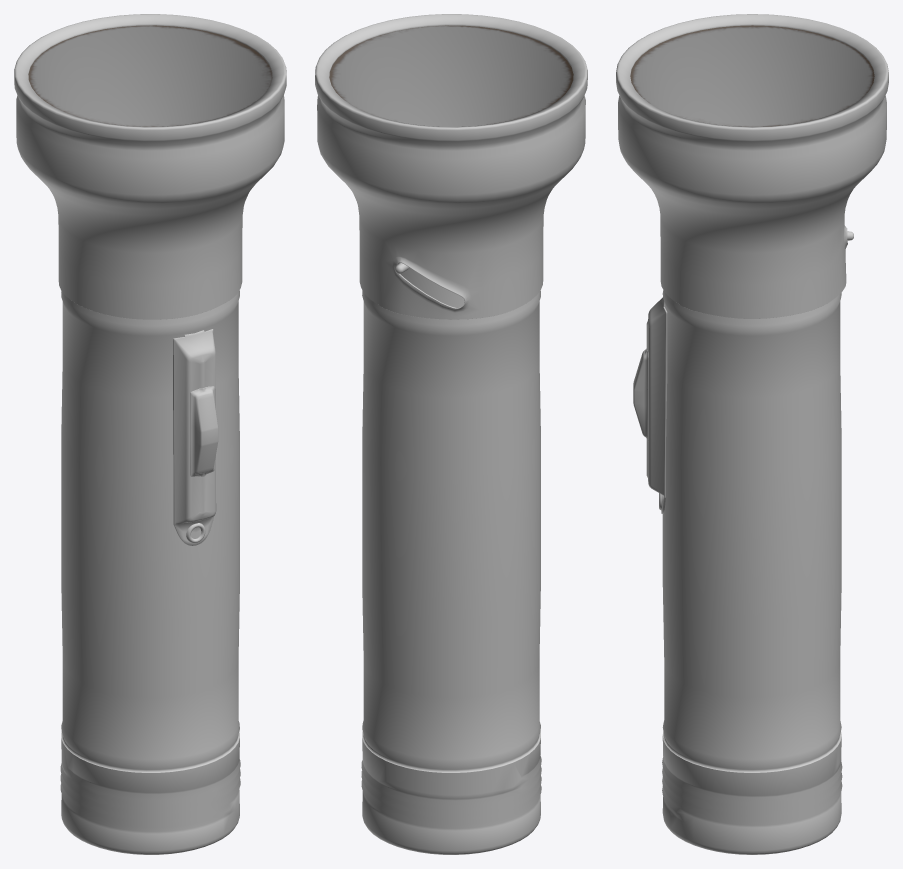
3 renders of one model, left to right at view 1: azimuth 30°, elevation 25°; view 2: azimuth 150°, elevation 25°; view 3: azimuth 270°, elevation 25°, orthographic.
Visible parts, largest first — view 1: Object1456_02 - Default_0, Object1459_02 - Default55_0; view 2: Object1456_02 - Default_0, Object1459_02 - Default55_0; view 3: Object1456_02 - Default_0, Object1459_02 - Default55_0.
Boxes of the visible parts, bbox=[...] form: Object1456_02 - Default_0: bbox=[14, 14, 286, 854]; Object1459_02 - Default55_0: bbox=[28, 25, 272, 126]; Object1456_02 - Default_0: bbox=[315, 14, 587, 854]; Object1459_02 - Default55_0: bbox=[329, 25, 573, 126]; Object1456_02 - Default_0: bbox=[616, 14, 888, 854]; Object1459_02 - Default55_0: bbox=[630, 25, 874, 126].
Size of the model in its own units: 0.1722 by 0.5206 by 0.1722.
